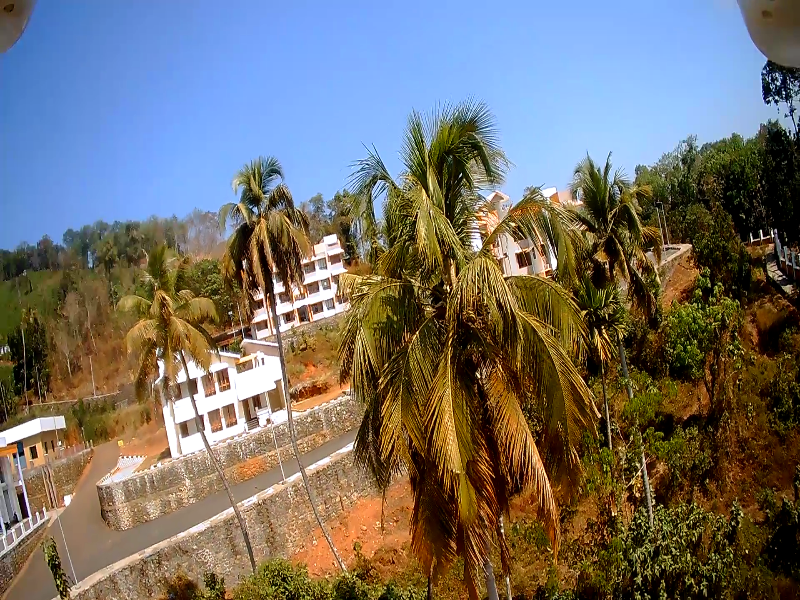coconut: (459, 306, 482, 327)
